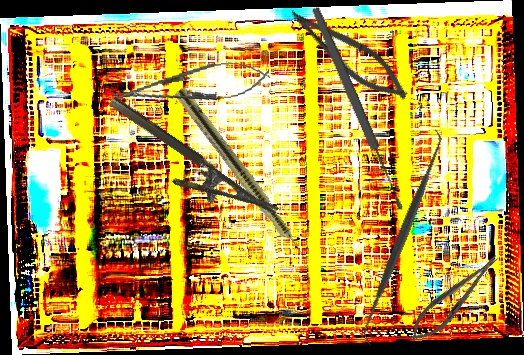Handpiece: (171, 85, 319, 274)
Micro Scissor: (276, 0, 419, 110)
Needle Holder: (93, 94, 279, 241), (401, 246, 508, 351), (109, 55, 272, 115)
Spatula Surgical: (348, 128, 457, 347)
Surgical Spoon: (309, 4, 407, 214)
